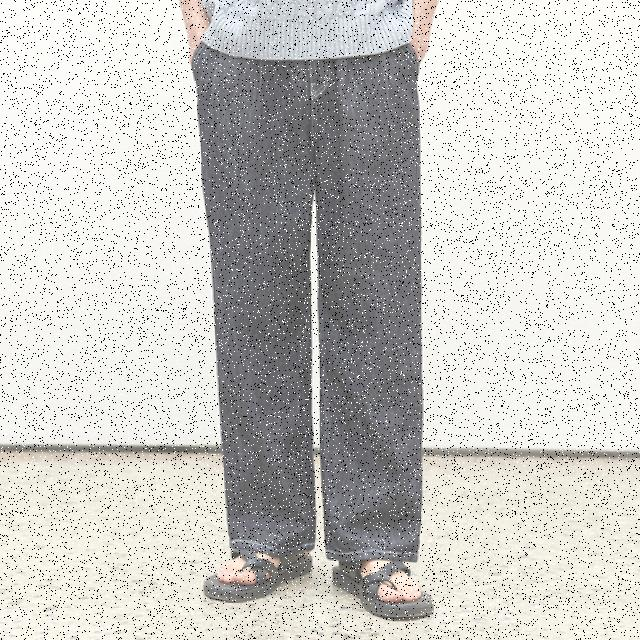dress: (188, 42, 430, 562)
